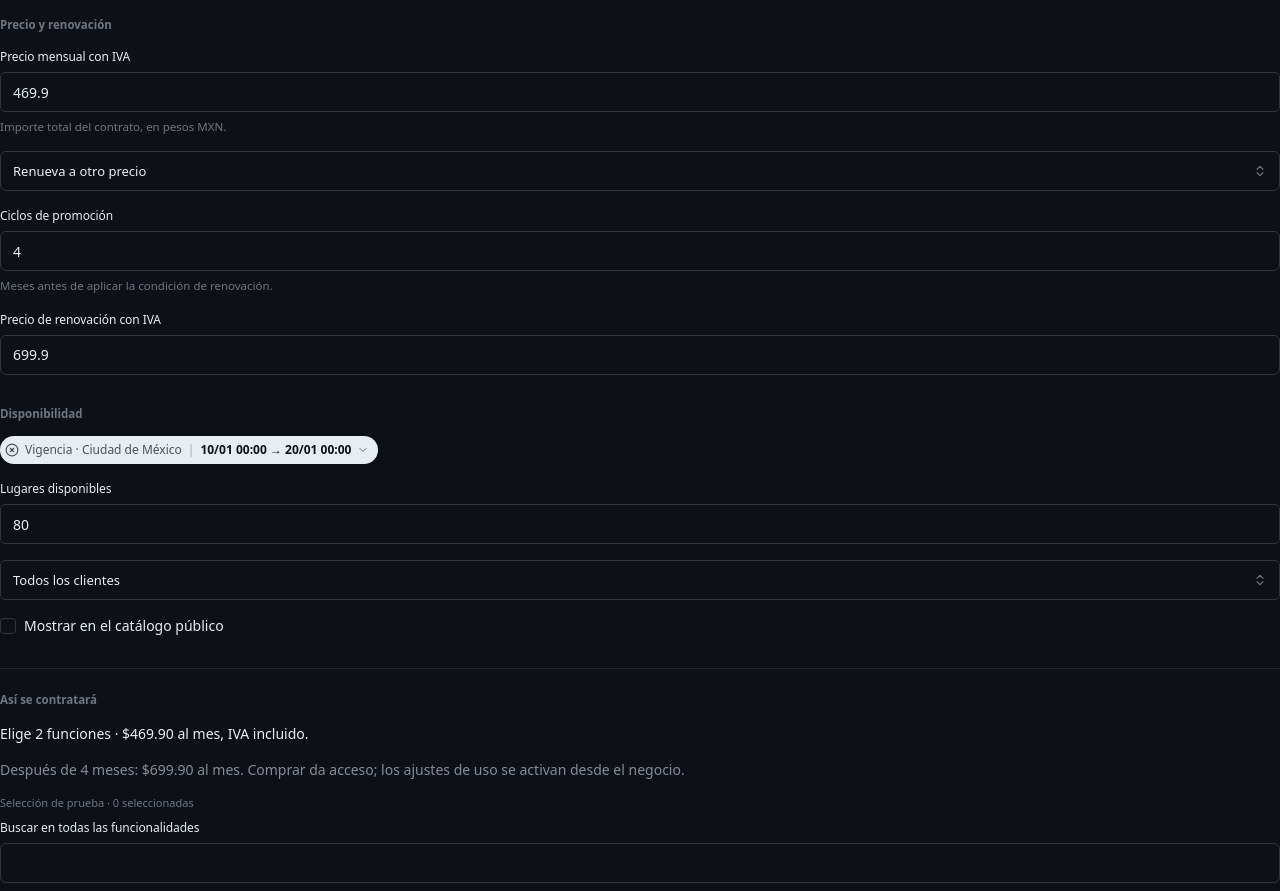
Test: hybrid campaign authoring › lets an operator schedule a campaign for future dates
The image size is (1280, 891).
(page scrolled)
Step 1. Click the button "Vigencia · Ciudad de México | 10/01 00:00 → 20/01 00:00" → point(189, 450), box [0, 436, 378, 464]
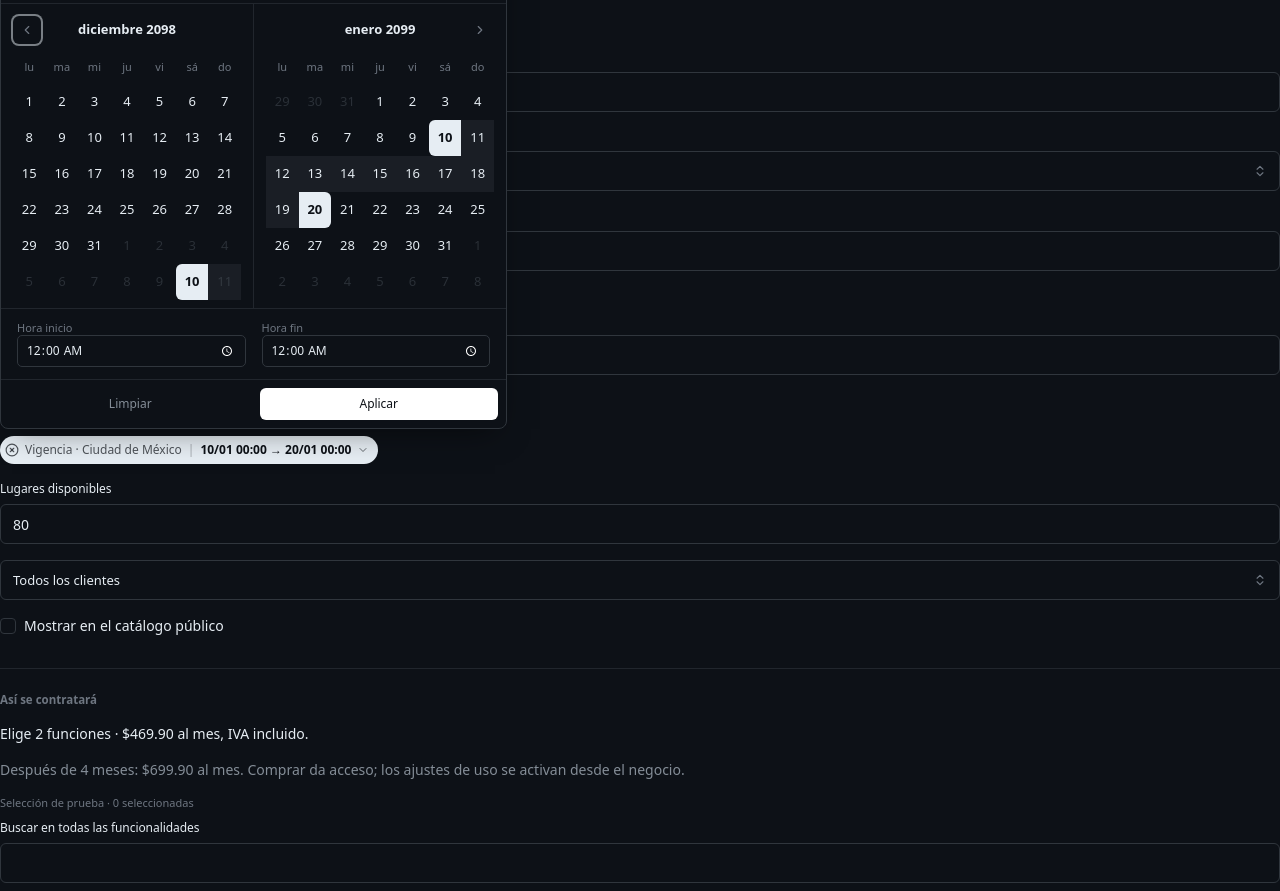
Expected: the button named "Mes siguiente" is enabled, [466, 16, 494, 44]
Now the button named "21 enero 2099" is enabled, box [331, 192, 364, 228]
